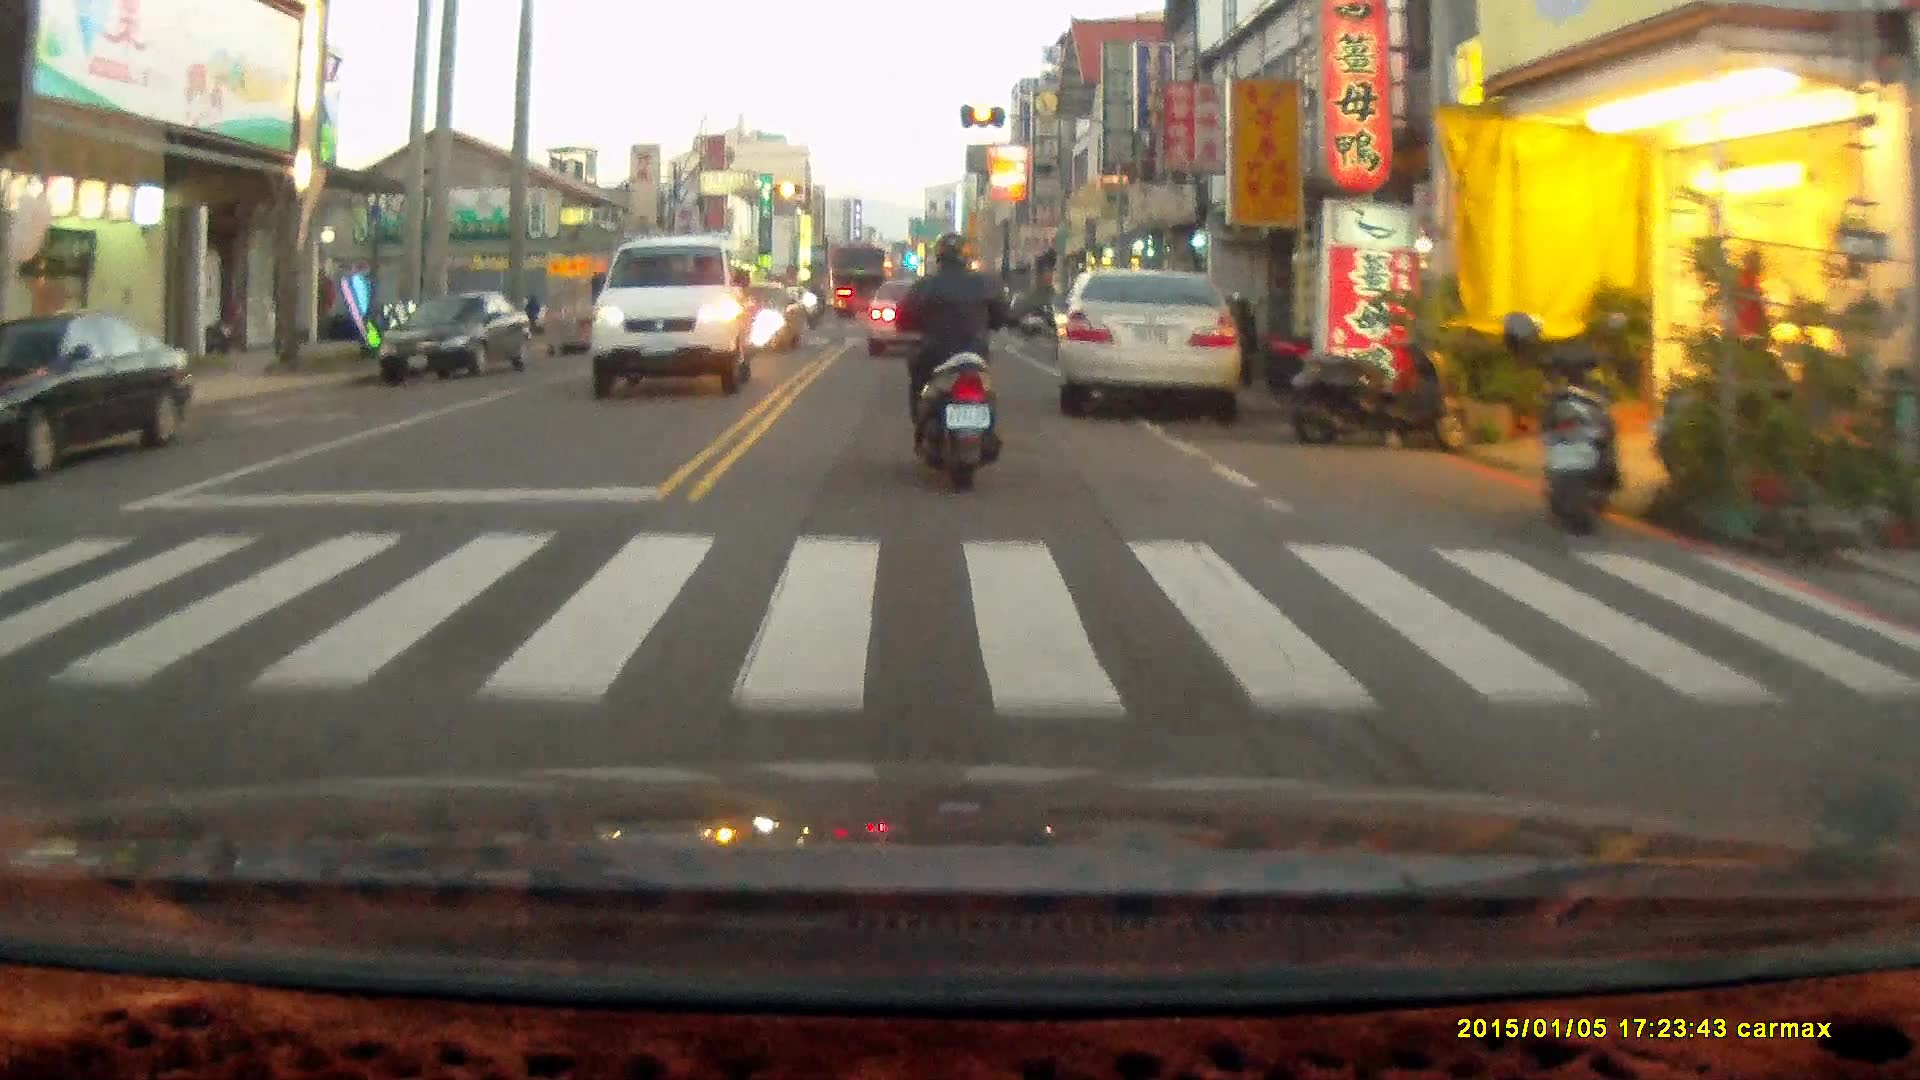pedestrian: (1730, 252, 1773, 400)
rider: (890, 233, 1012, 496)
vehicle: (1, 312, 195, 489), (591, 238, 751, 407), (1055, 270, 1242, 416), (378, 291, 530, 394), (861, 276, 961, 354)
